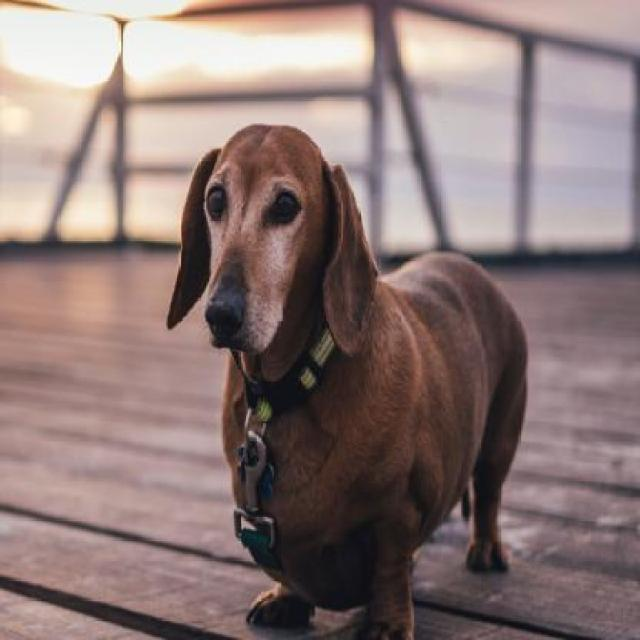Dog: (163, 117, 532, 638)
